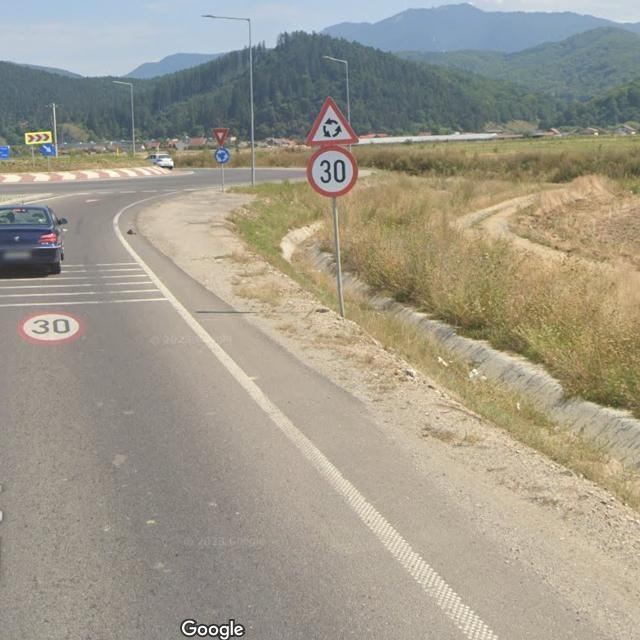forb_speed_over_30: (307, 146, 358, 197), (18, 309, 84, 346)
prio_give_way: (211, 128, 230, 147)
